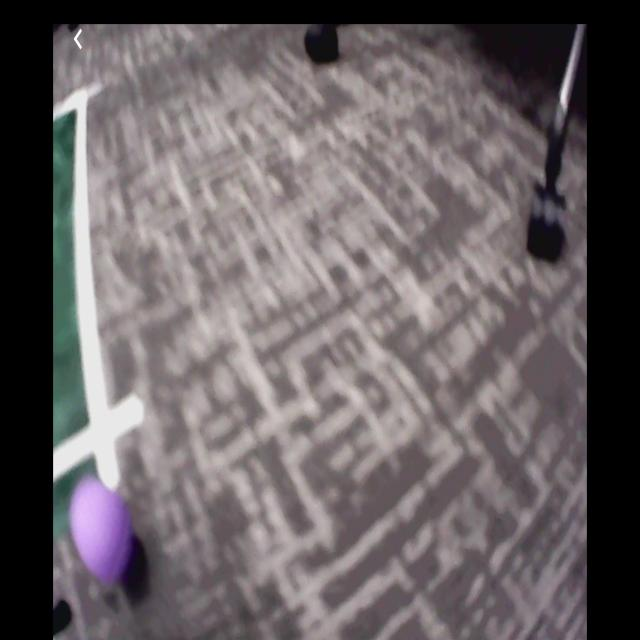ball: (69, 475, 135, 592)
